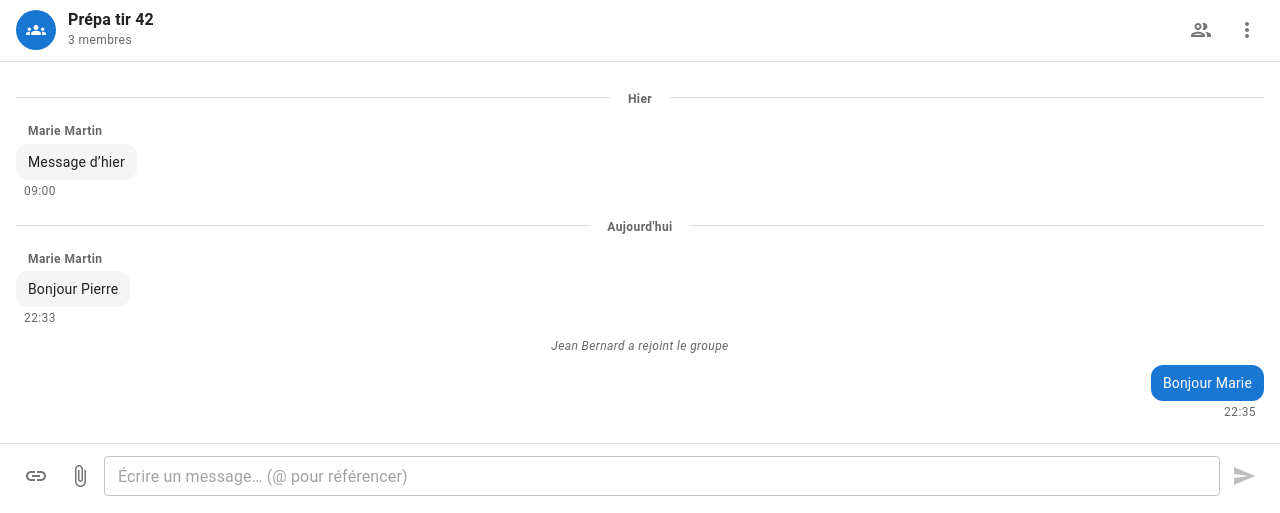
ConversationThread › membre simple d’un groupe : seul « Quitter le groupe » est proposé
Click the button named "Actions de la conversation".
click(1247, 30)  # box x1=1230 y1=13 x2=1264 y2=47
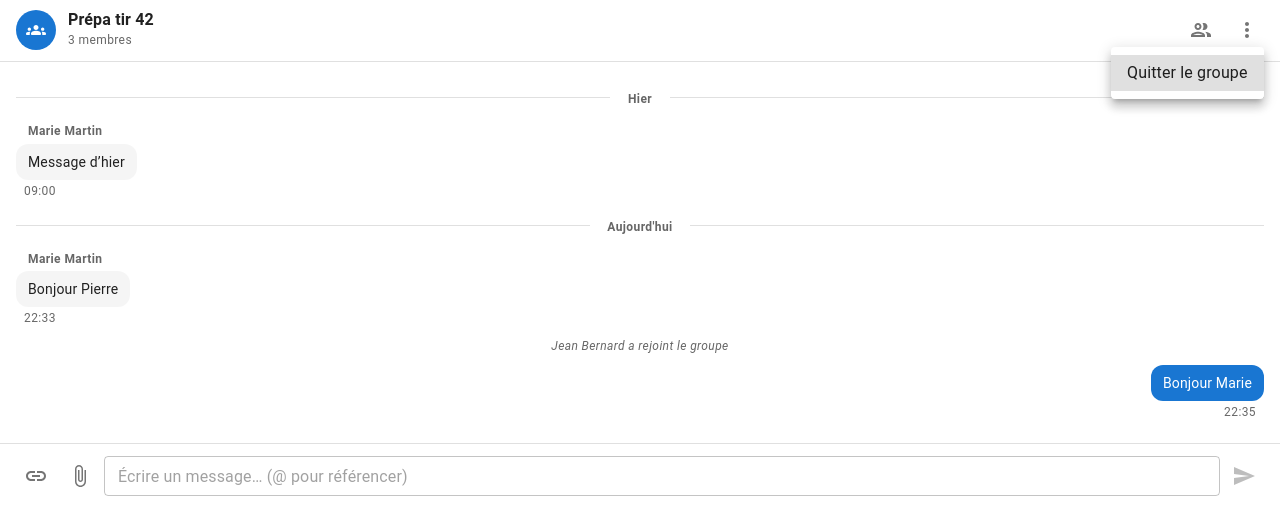
Expected: the number of menu items is 1, x1=1111 y1=55 x2=1264 y2=91
